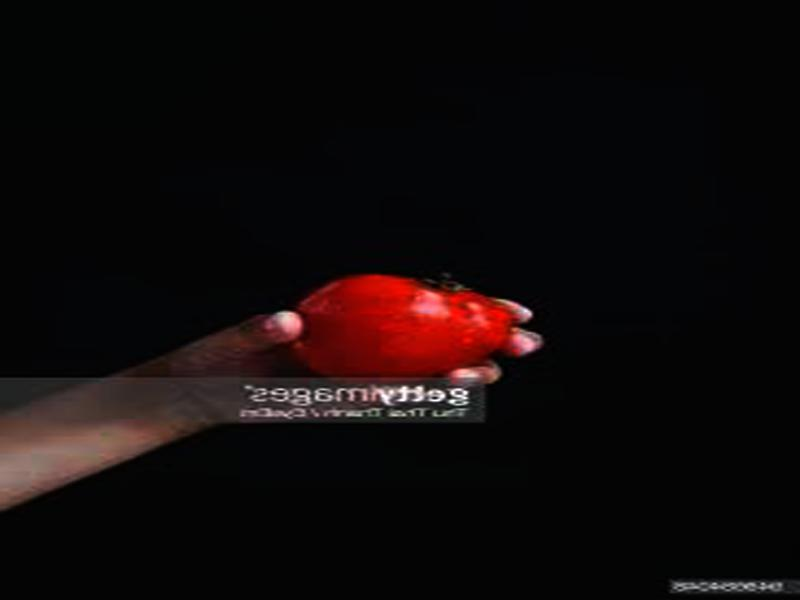Tomato: (296, 273, 519, 382)
